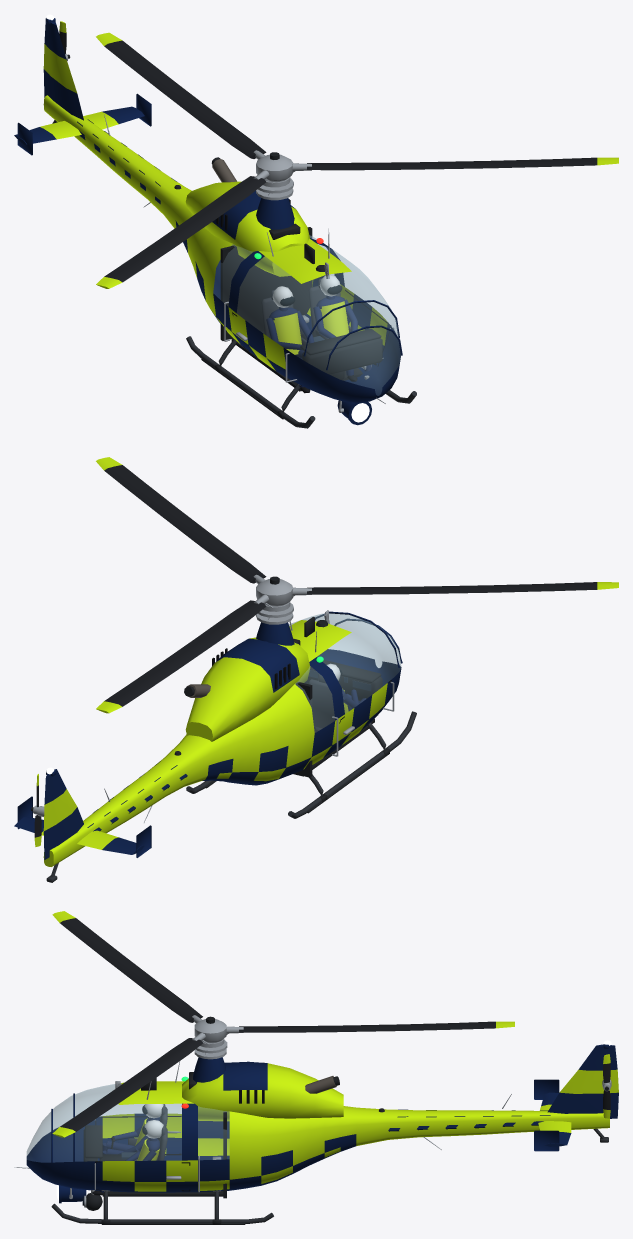
Rendered from helicopter.glb.
3 views of the same model, one above another, from view 1: azimuth 30°, elevation 25°; view 2: azimuth 150°, elevation 25°; view 3: azimuth 270°, elevation 25° (orthographic). The views are drawn at different scales.
Visible parts, largest first — view 1: fuselage, rotor_main, skids, spotlight; view 2: fuselage, rotor_main, skids; view 3: fuselage, rotor_main, skids, rotor_tail.
Part boxes in pixels (x1,y1,x2,y2): fuselage: (14, 18, 402, 412); rotor_main: (96, 32, 618, 288); skids: (186, 315, 416, 428); spotlight: (337, 400, 371, 425); fuselage: (14, 610, 402, 882); rotor_main: (96, 457, 618, 713); skids: (186, 711, 416, 818); fuselage: (14, 1044, 618, 1198); rotor_main: (52, 911, 514, 1137); skids: (51, 1156, 273, 1224); rotor_tail: (603, 1054, 610, 1118).
Bounding box in the file's own units: 8.42 × 3.2 × 9.54.
